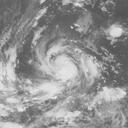cyclone: (46, 41, 92, 86)
